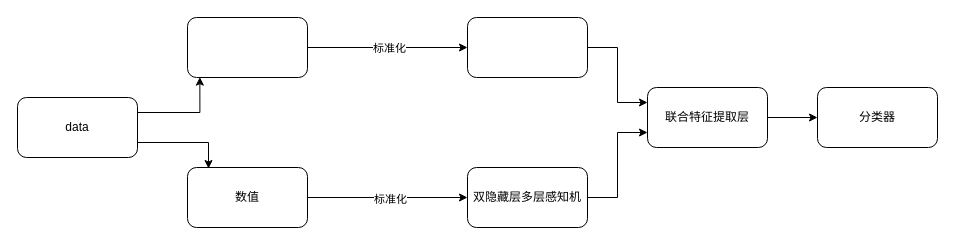
The diagram is 955 pixels wide and 245 high, and some of its shapes have lost their labels. Here are the shapes that lost their labels. From the top down, the box of each, then its label:
(186, 16, 308, 78): 时序
(466, 16, 588, 78): BiLSTM
